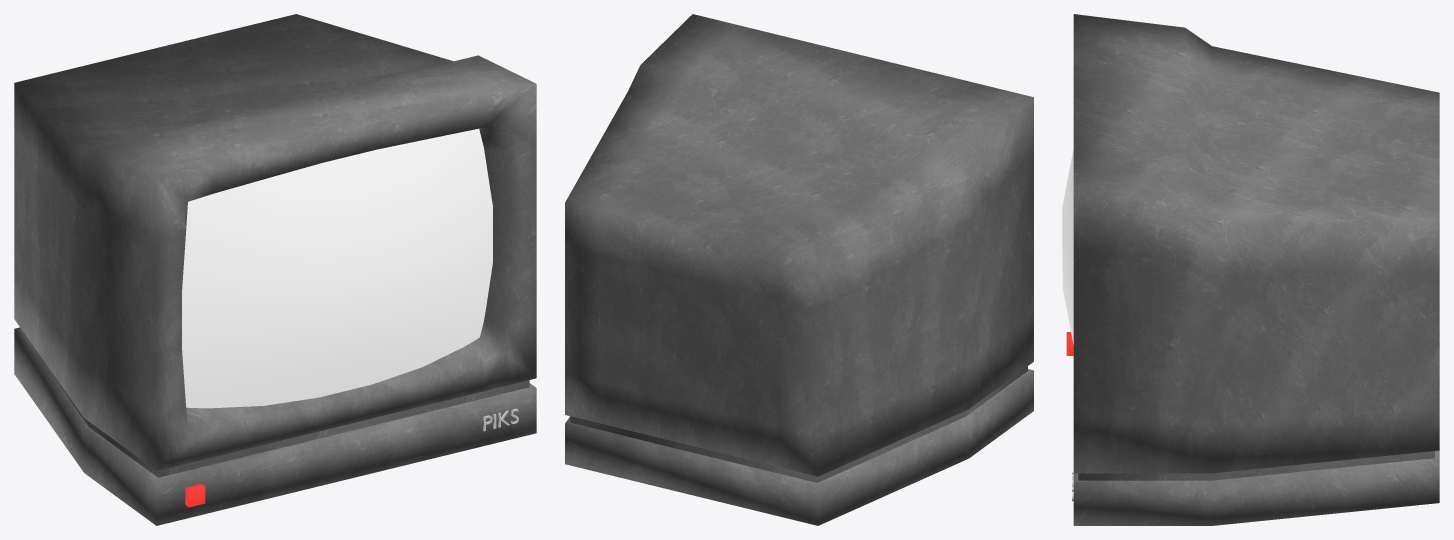
The picture shows the model from 3 angles, left to right: view 1: azimuth 30°, elevation 25°; view 2: azimuth 150°, elevation 25°; view 3: azimuth 270°, elevation 25°; orthographic projection. The views are drawn at different scales.
Parts seen in each view (by area): view 1: Cube, Cube.002, Cube.001; view 2: Cube, Cube.001; view 3: Cube, Cube.001, Cube.002.
Part boxes in pixels (x1,y1,x2,y2): Cube: (14,14,536,525); Cube.002: (182,128,492,408); Cube.001: (20,328,529,477); Cube: (565,14,1033,525); Cube.001: (570,366,1027,482); Cube: (1073,14,1439,525); Cube.001: (1078,451,1434,480); Cube.002: (1062,149,1073,344).
Size of the model in its own units: 0.505 by 0.4437 by 0.4538.
4 materials, 1 textured.
